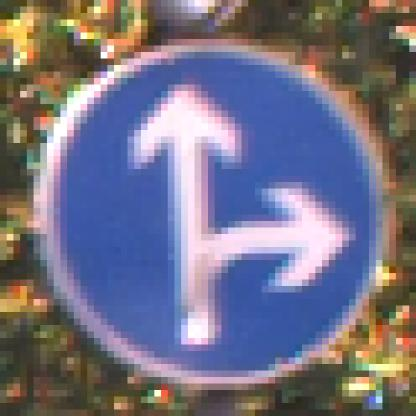Straight or Right: (42, 40, 384, 384)
